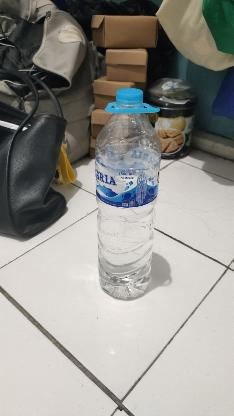Plastic Bottle: (96, 86, 162, 300)
